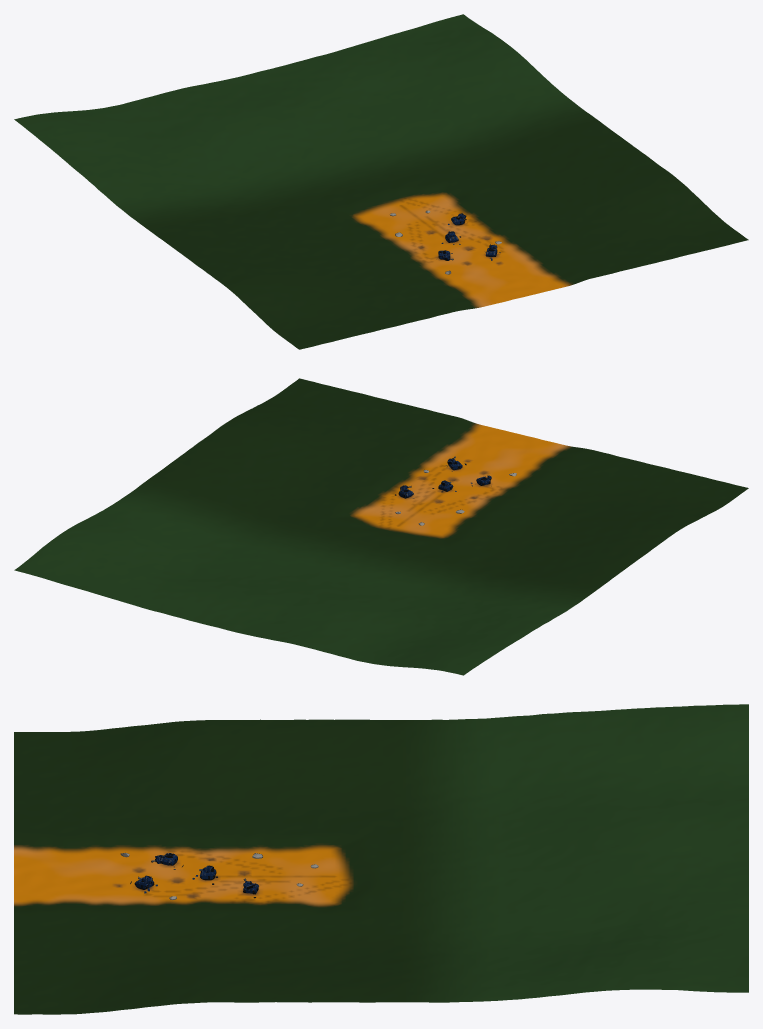
File: jackal_victory.glb
3 views of the same model, one above another, from view 1: azimuth 30°, elevation 25°; view 2: azimuth 150°, elevation 25°; view 3: azimuth 270°, elevation 25° (orthographic). The views are drawn at different scales.
Parts seen in each view (by area): view 1: VS_Ground; view 2: VS_Ground; view 3: VS_Ground.
Part boxes in pixels (x1,y1,x2,y2): VS_Ground: (14,14,748,349); VS_Ground: (14,378,748,675); VS_Ground: (14,704,748,1014).
Bounding box in the file's own units: 59.85 × 3.32 × 65.8.
